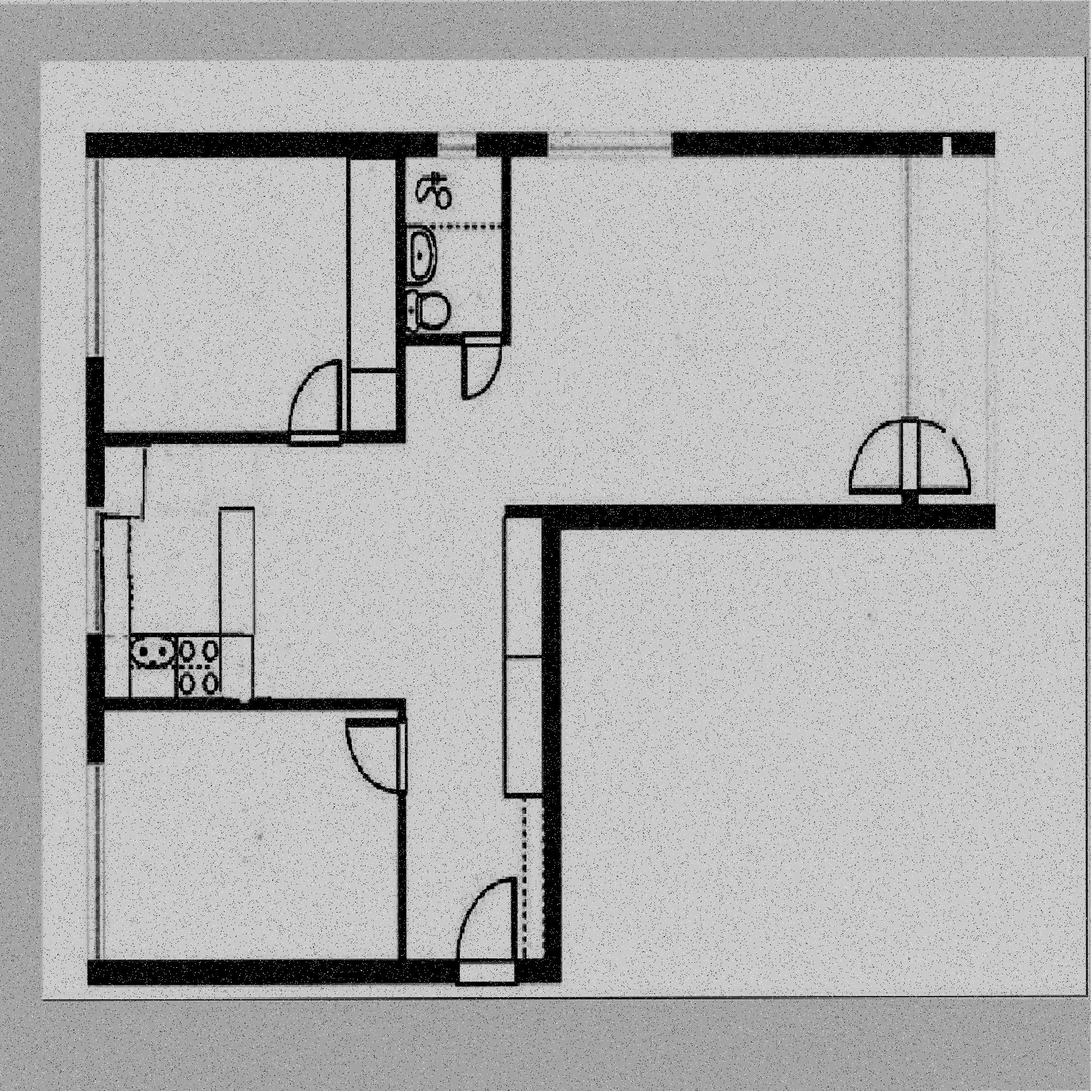wall: (87, 131, 919, 157), (87, 131, 104, 983), (87, 958, 561, 983), (544, 504, 919, 528), (544, 504, 561, 983), (900, 131, 919, 528), (87, 698, 407, 710), (87, 433, 405, 445), (396, 131, 405, 445), (398, 698, 407, 983), (501, 131, 510, 345), (918, 131, 993, 155), (918, 505, 993, 528), (396, 333, 511, 346), (503, 504, 544, 517)
